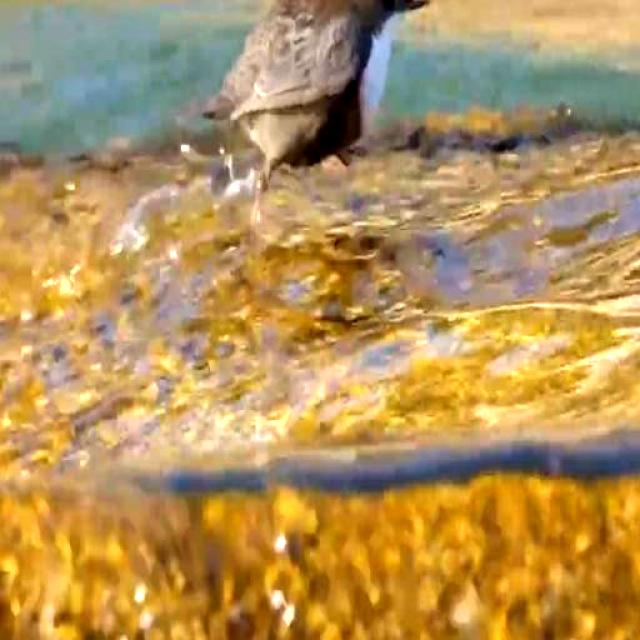airplane: (172, 0, 434, 210)
